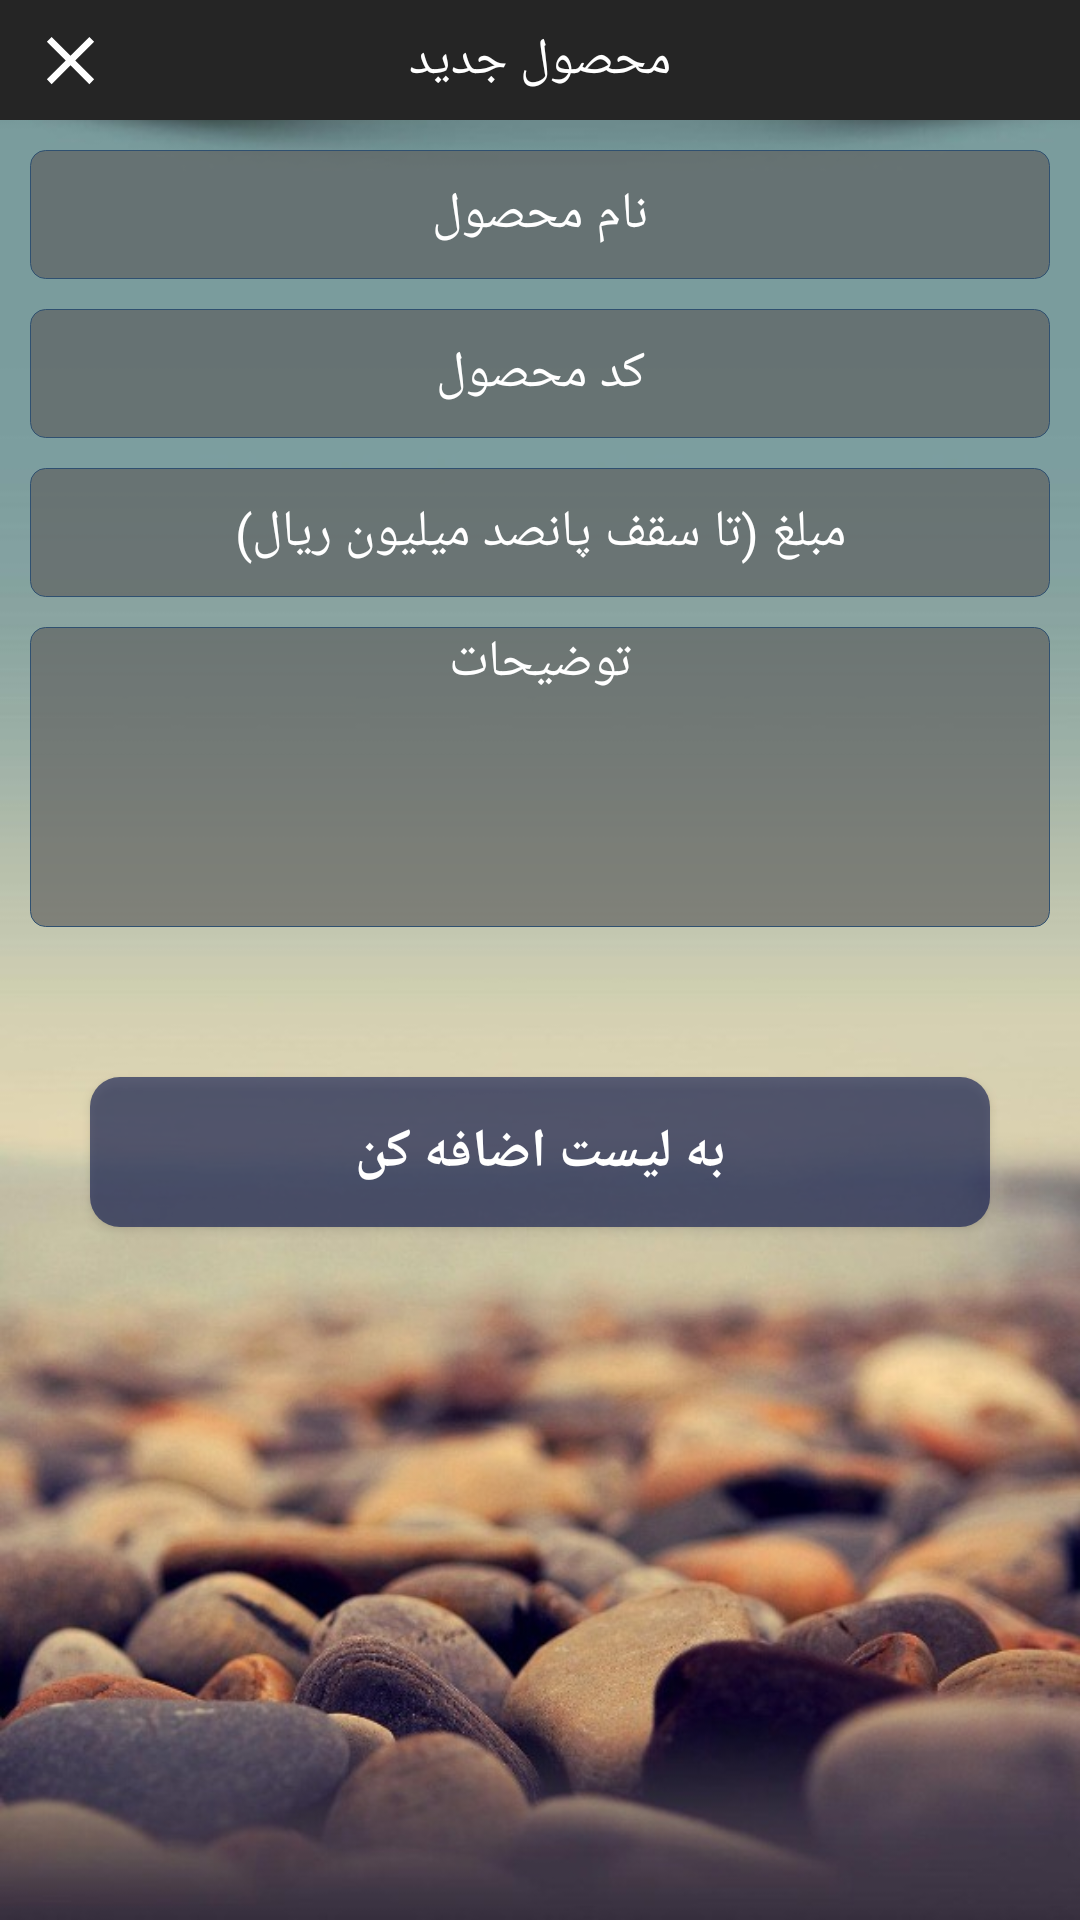

Screen size 1080x1920. Icon name, then its center in pixels as point (x, y):
close dialog: point (70, 60)
